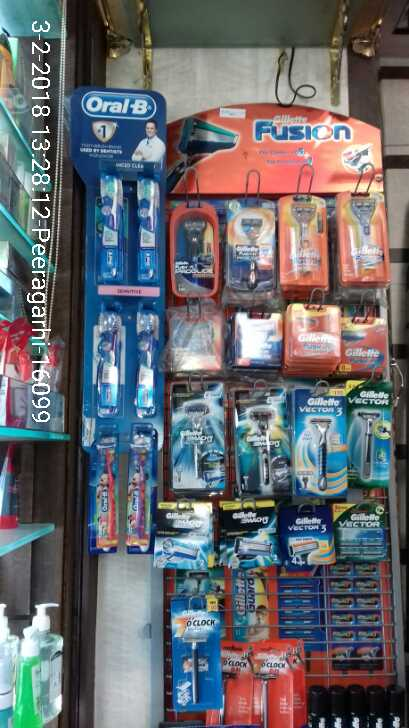beauty: (229, 387, 296, 488), (170, 386, 228, 488), (215, 207, 276, 292), (279, 193, 331, 291), (299, 392, 348, 492), (345, 382, 396, 478), (166, 212, 222, 297), (338, 196, 394, 276), (157, 502, 218, 570), (276, 508, 335, 578), (213, 490, 272, 554), (282, 307, 336, 369), (331, 503, 393, 556), (170, 307, 221, 368), (234, 308, 281, 366), (343, 320, 388, 374)
pharmacy: (90, 299, 125, 419), (127, 176, 158, 284), (130, 306, 159, 420), (89, 180, 122, 279), (125, 434, 154, 545), (98, 444, 118, 545)
